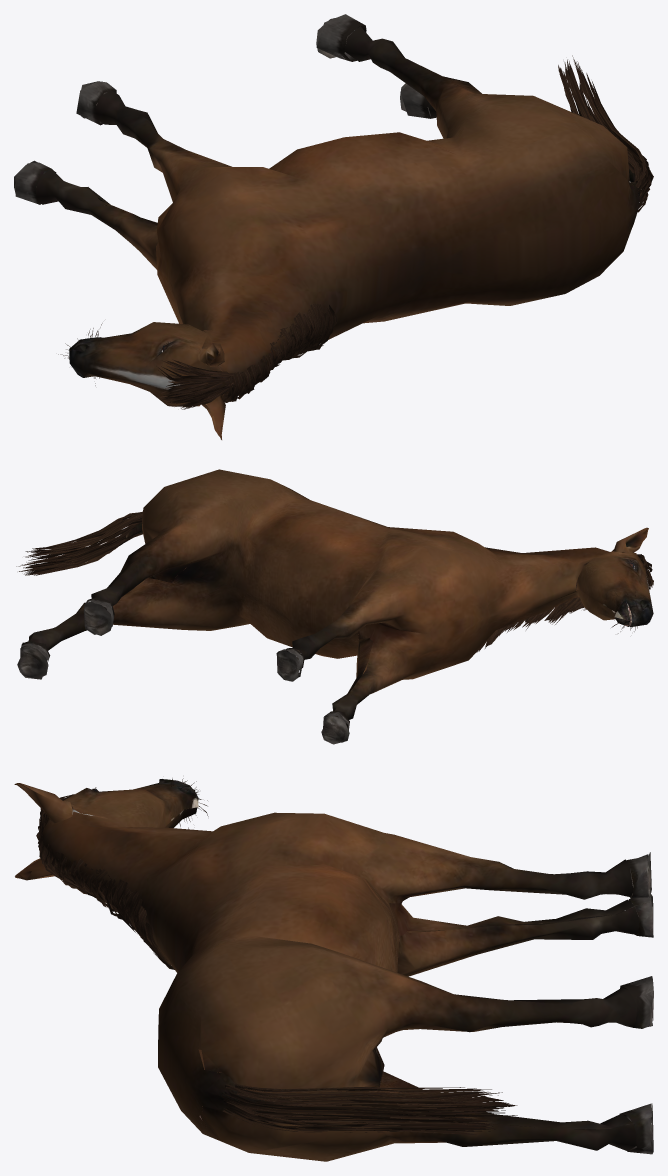
File: Horse.obj
3 renders of one model, top to bottom at view 1: azimuth 30°, elevation 25°; view 2: azimuth 150°, elevation 25°; view 3: azimuth 270°, elevation 25°, orthographic. The views are drawn at different scales.
Visible parts, largest first — view 1: Horse_1_Horse; view 2: Horse_1_Horse; view 3: Horse_1_Horse.
Boxes of the visible parts, bbox=[...] form: Horse_1_Horse: bbox=[14, 14, 653, 439]; Horse_1_Horse: bbox=[16, 469, 653, 744]; Horse_1_Horse: bbox=[14, 778, 653, 1161].
Size of the model in its own units: 2.77 by 0.6786 by 2.14.
